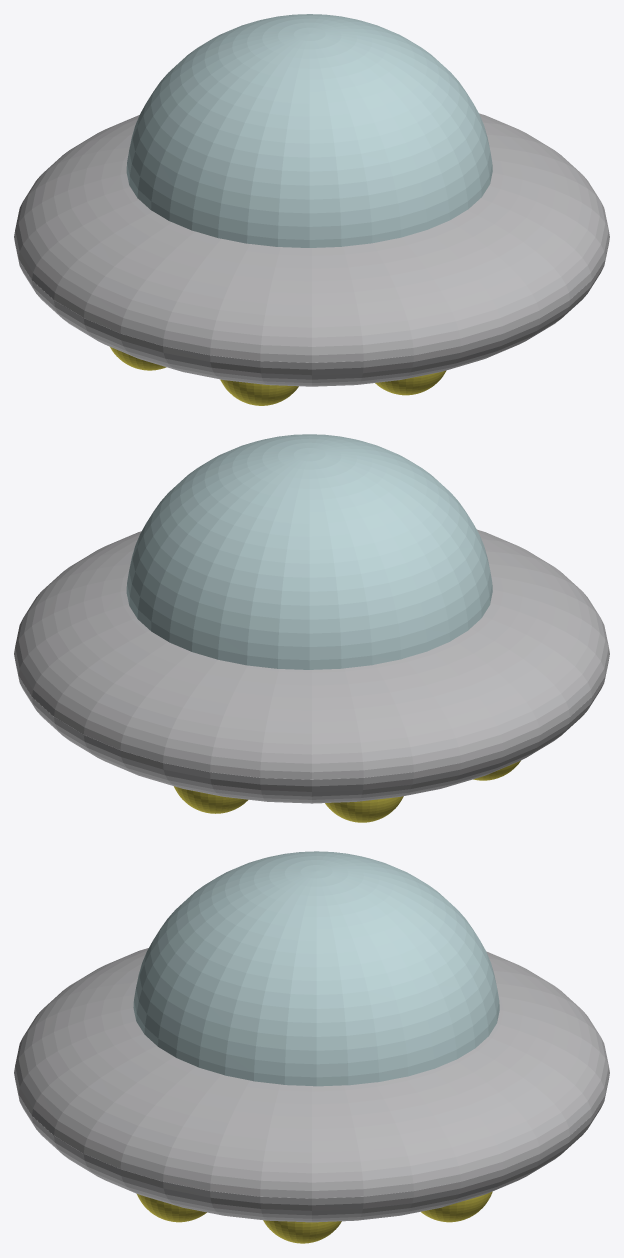
Rendered from SilverFlyingSaucer.glb.
3 views of the same model, one above another, from view 1: azimuth 30°, elevation 25°; view 2: azimuth 150°, elevation 25°; view 3: azimuth 270°, elevation 25° (orthographic).
Visible parts, largest first — view 1: Mesh_Mesh_head_geo.001_lambert2SG.001; view 2: Mesh_Mesh_head_geo.001_lambert2SG.001; view 3: Mesh_Mesh_head_geo.001_lambert2SG.001.
Part boxes in pixels (x1,y1,x2,y2): Mesh_Mesh_head_geo.001_lambert2SG.001: (14,14,609,405); Mesh_Mesh_head_geo.001_lambert2SG.001: (14,434,609,822); Mesh_Mesh_head_geo.001_lambert2SG.001: (14,851,609,1243).
Bounding box in the file's own units: 130 × 69 × 130.
